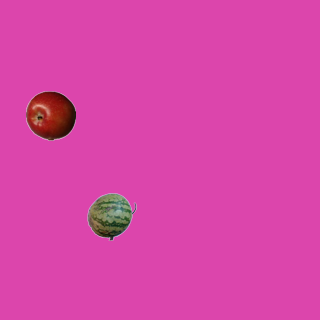Apple Braeburn: (25, 90, 75, 140)
Watermelon: (86, 191, 136, 241)
